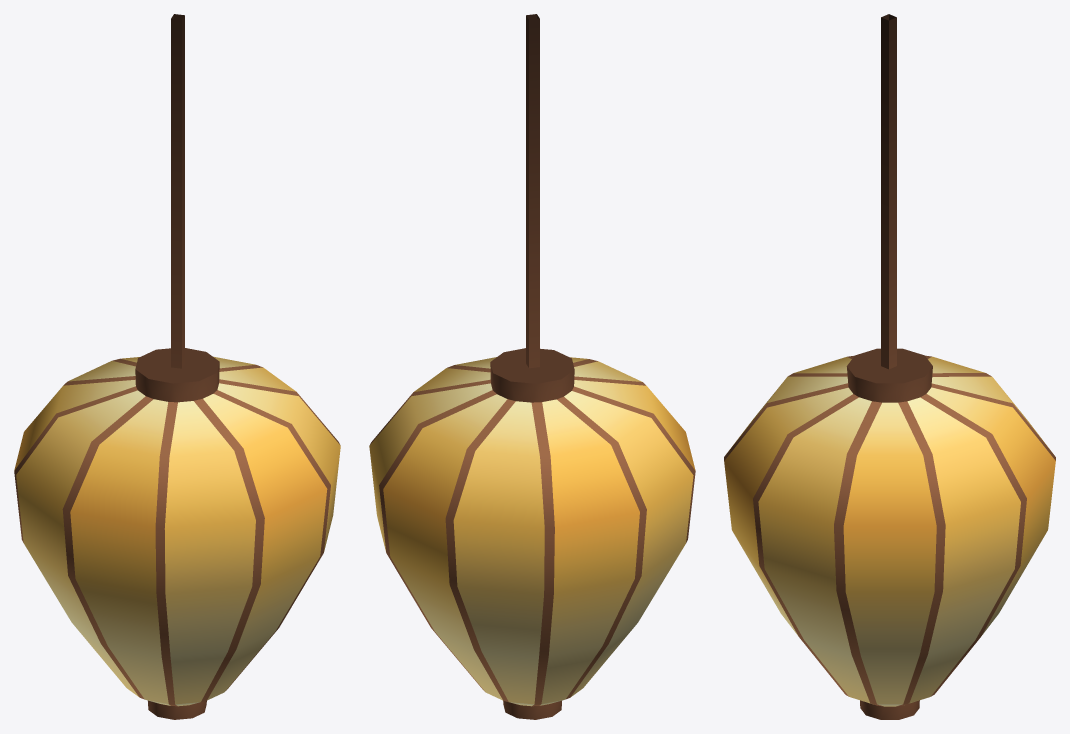
Rendered from Lantern_C_02.FBX.
3 renders of one model, left to right at view 1: azimuth 30°, elevation 25°; view 2: azimuth 150°, elevation 25°; view 3: azimuth 270°, elevation 25°, orthographic.
Visible parts, largest first — view 1: Lantern_C_02LIght, Lantern_C_02; view 2: Lantern_C_02LIght, Lantern_C_02; view 3: Lantern_C_02LIght, Lantern_C_02.
Part boxes in pixels (x1,y1,x2,y2): Lantern_C_02LIght: (14,356,340,706); Lantern_C_02: (135,14,219,719); Lantern_C_02LIght: (369,357,695,706); Lantern_C_02: (490,14,574,719); Lantern_C_02LIght: (724,355,1055,706); Lantern_C_02: (846,14,932,719).
Size of the model in its own units: 40.51 by 96.91 by 42.19.
Materials: 1 (1 with a texture image).
